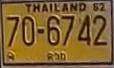0: (21, 16, 34, 46)
2: (93, 15, 106, 44)
4: (77, 14, 90, 45)
6: (46, 15, 59, 45)
7: (61, 15, 74, 45), (6, 16, 19, 46)
TAK: (46, 51, 68, 61)
